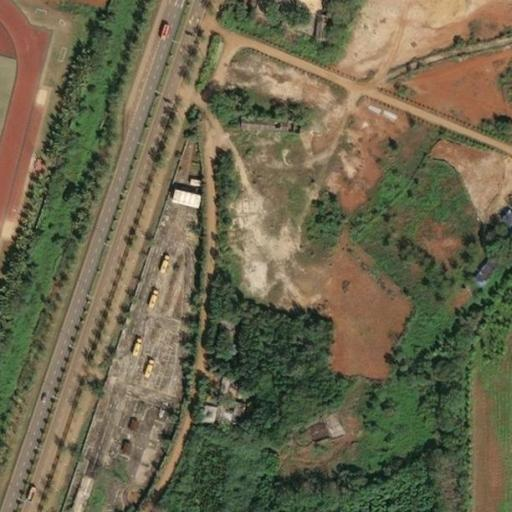building: (303, 412, 342, 446), (459, 257, 489, 288), (170, 217, 187, 249), (487, 209, 510, 231), (225, 119, 255, 134), (356, 111, 383, 127), (205, 374, 217, 403), (161, 193, 184, 208), (189, 405, 205, 422), (304, 15, 314, 41), (254, 294, 271, 306), (221, 400, 234, 414), (208, 410, 221, 422), (218, 322, 226, 339), (208, 320, 222, 329), (213, 342, 224, 353), (178, 183, 189, 190)
